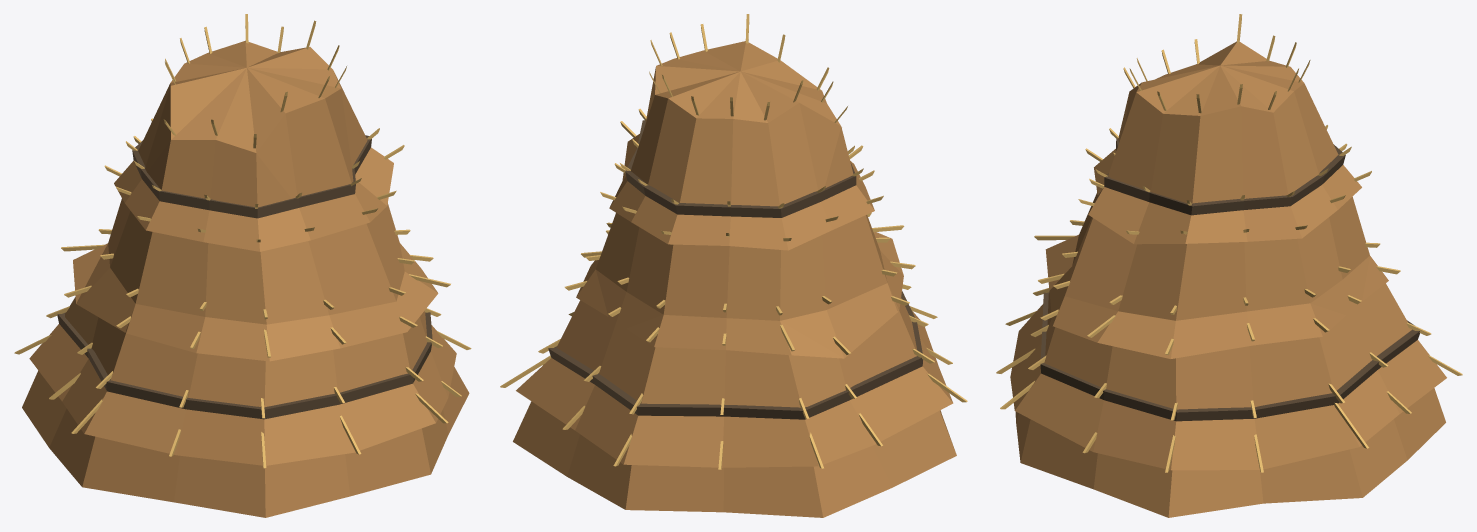
Rendered from Hay_1.fbx.
3 views of the same model, side by side, from view 1: azimuth 30°, elevation 25°; view 2: azimuth 150°, elevation 25°; view 3: azimuth 270°, elevation 25° (orthographic).
Parts seen in each view (by area): view 1: Hay_1; view 2: Hay_1; view 3: Hay_1.
Boxes of the visible parts, x1,y1,x2,y2 form: Hay_1: (14,14,471,517); Hay_1: (500,14,967,517); Hay_1: (996,14,1462,517).
Bounding box in the file's own units: 1.64 × 1.47 × 1.66.
